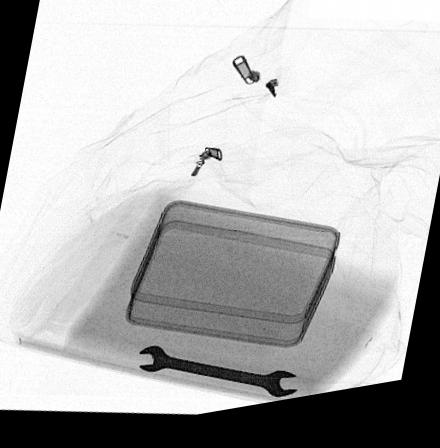Wrench: (133, 347, 300, 406)
